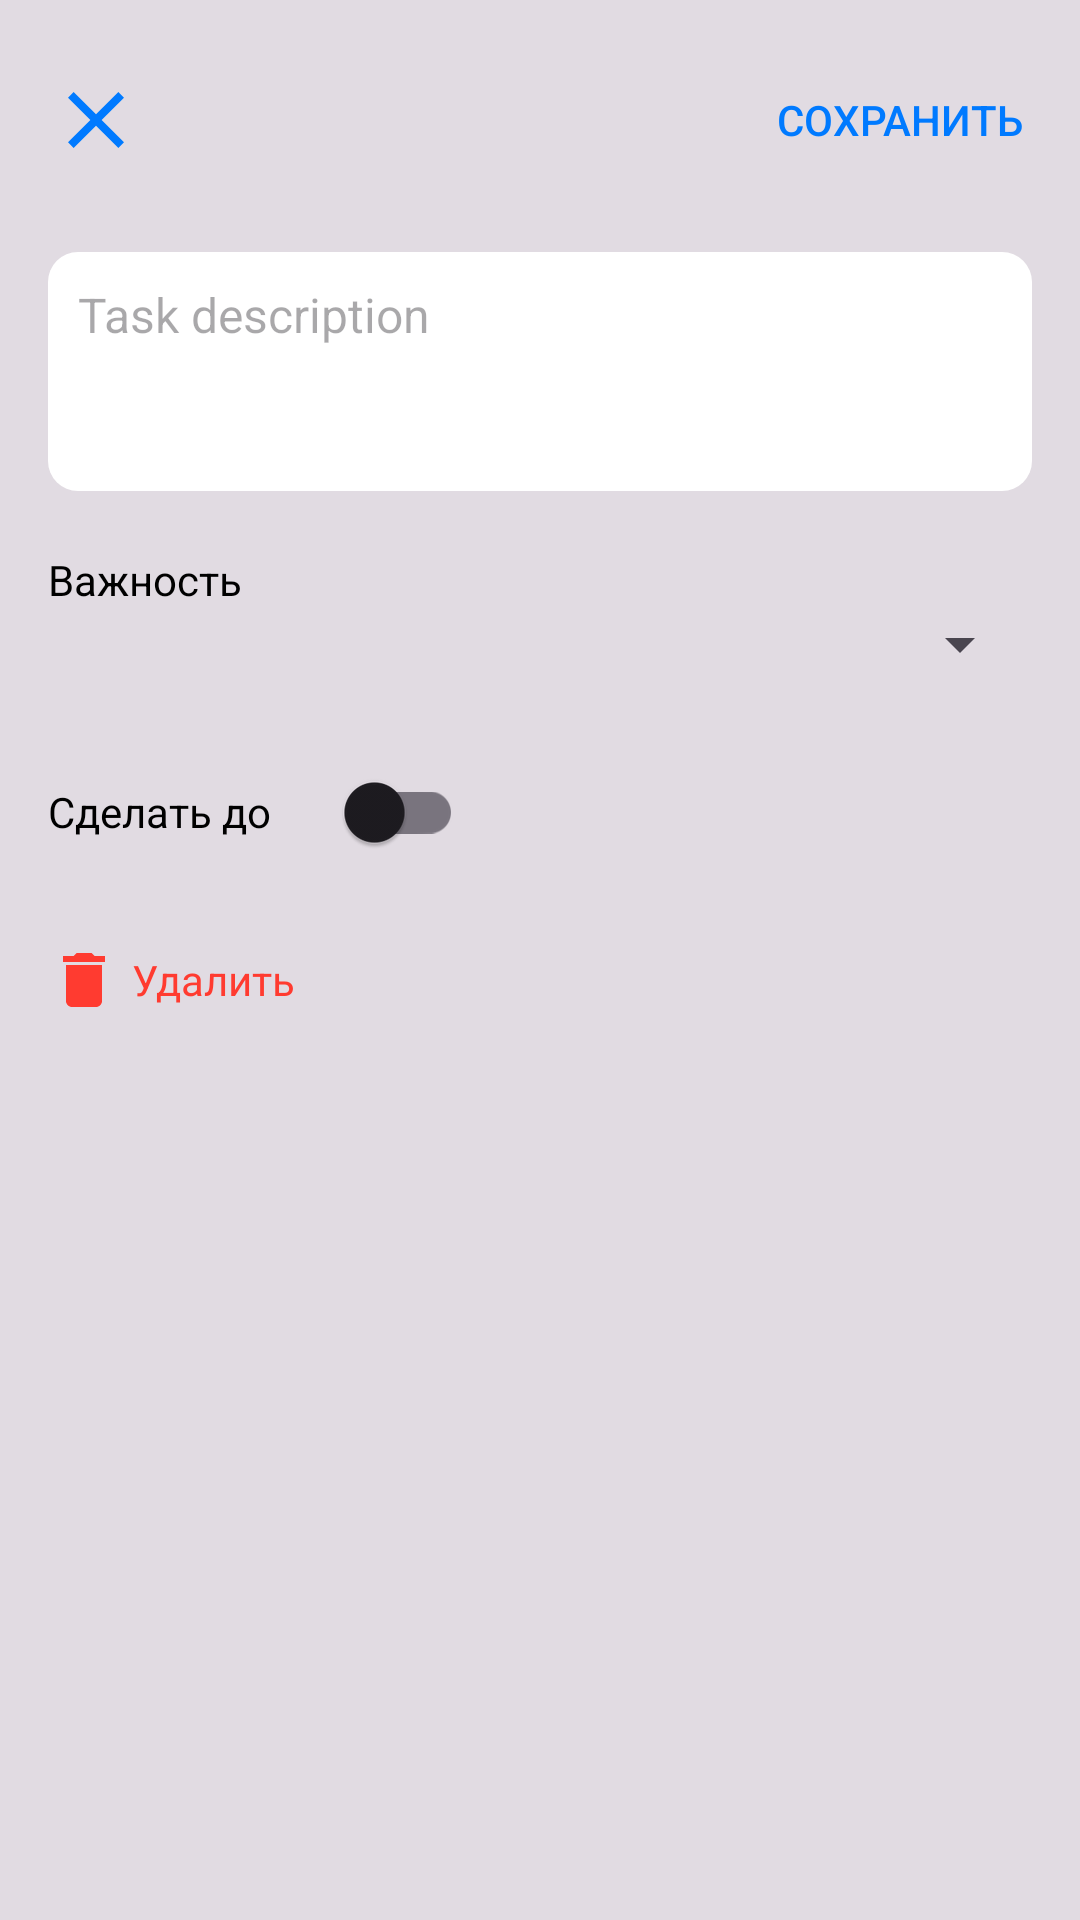

Named icons in this screenshot (1080px x 1920px) and their bounding boxes, (x1, y1, x2, y2):
Cancel: (68, 92, 124, 148)
